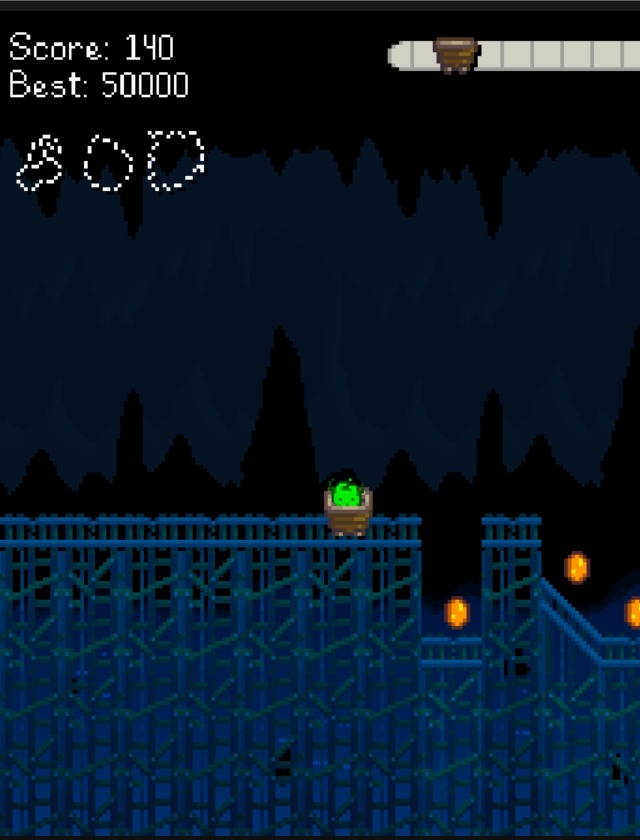coins: (565, 551, 589, 584), (445, 597, 469, 629), (626, 598, 639, 628)
minecart: (324, 478, 371, 536)
tracks: (0, 515, 420, 572), (542, 581, 639, 666), (481, 516, 541, 562), (423, 648, 481, 668), (440, 638, 455, 646)
